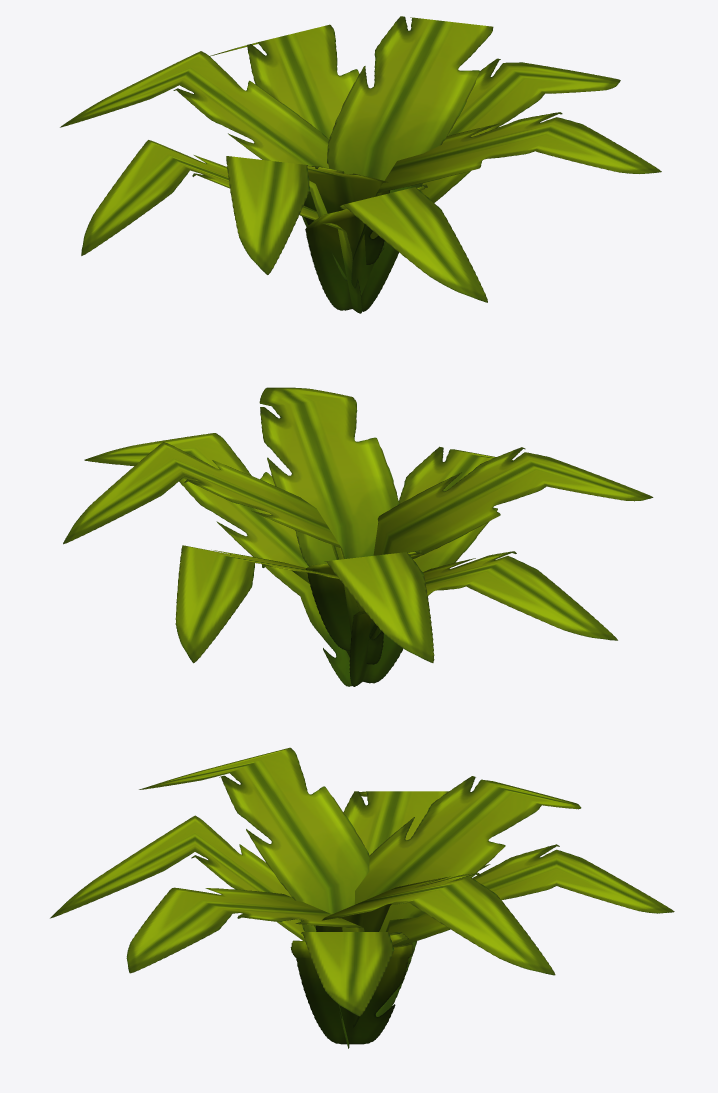
The model's file is 4_Arbusto_Con_Flor.fbx.
The picture shows the model from 3 angles, top to bottom: view 1: azimuth 30°, elevation 25°; view 2: azimuth 150°, elevation 25°; view 3: azimuth 270°, elevation 25°; orthographic projection. The views are drawn at different scales.
Visible parts, largest first — view 1: 1_Arbusto; view 2: 1_Arbusto; view 3: 1_Arbusto.
Part boxes in pixels (x1=…): 1_Arbusto: x1=60, y1=16, x2=661, y2=313; 1_Arbusto: x1=63, y1=387, x2=653, y2=686; 1_Arbusto: x1=50, y1=747, x2=674, y2=1048.
Bounding box in the file's own units: 138 × 50.72 × 137.
